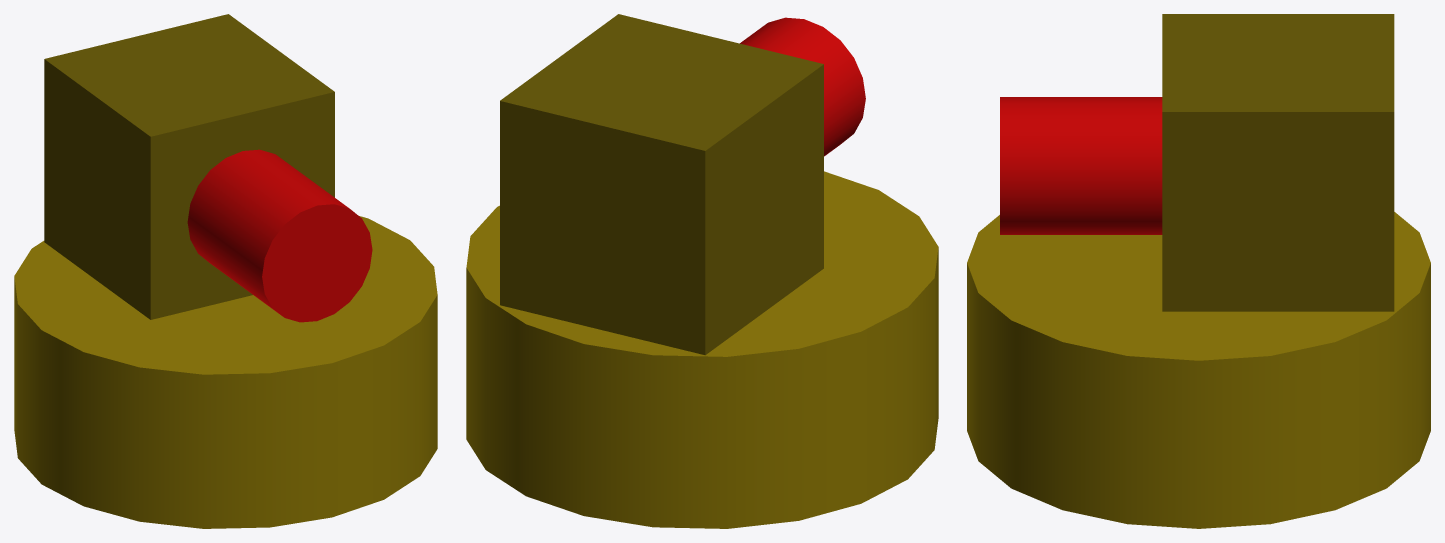
The model's file is AutoCannon.fbx.
The picture shows the model from 3 angles, left to right: view 1: azimuth 30°, elevation 25°; view 2: azimuth 150°, elevation 25°; view 3: azimuth 270°, elevation 25°; orthographic projection. The views are drawn at different scales.
Visible parts, largest first — view 1: pCube2; view 2: pCube2; view 3: pCube2.
Part boxes in pixels (x1,y1,x2,y2): pCube2: [14, 14, 437, 528]; pCube2: [466, 14, 938, 528]; pCube2: [967, 14, 1430, 528].
Size of the model in its own units: 1 by 0.8751 by 1.
